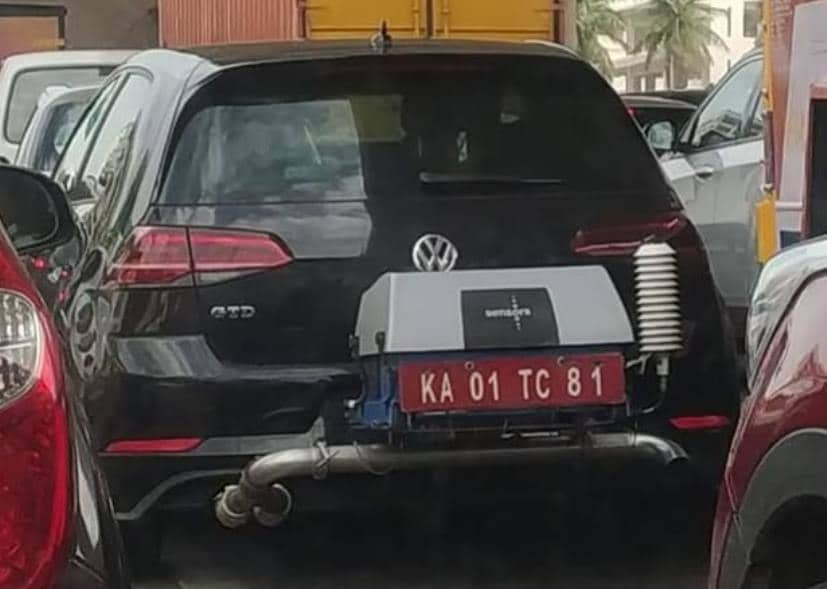number_plate: (388, 346, 637, 414)
